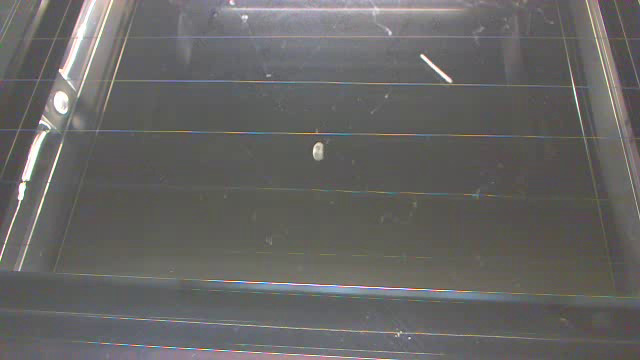alpha: (419, 52, 458, 84), (310, 140, 326, 164)
